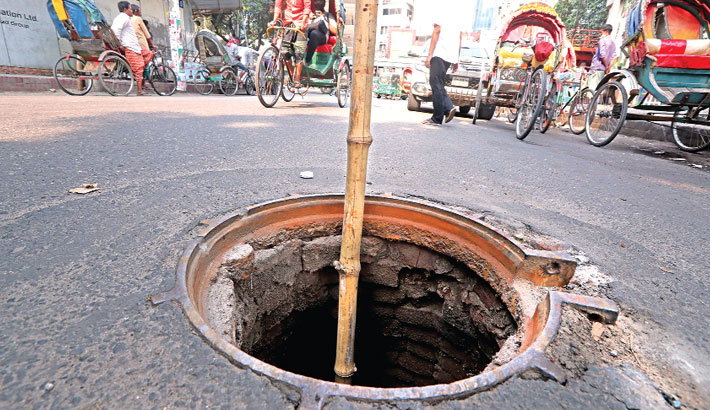Bicycle: (565, 68, 633, 153), (43, 45, 134, 99), (498, 70, 563, 144), (181, 59, 246, 99)
Open_manhole: (160, 177, 629, 400)
